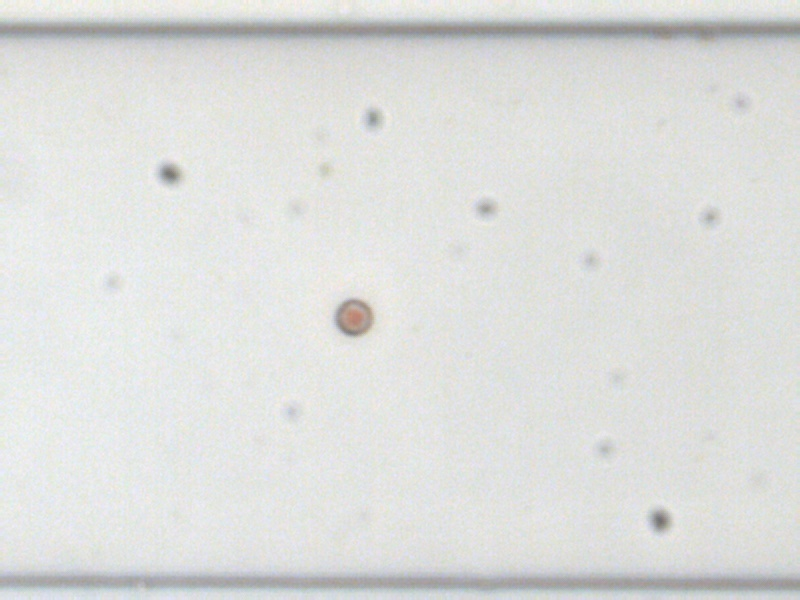Porphyridium: (333, 296, 375, 336)
